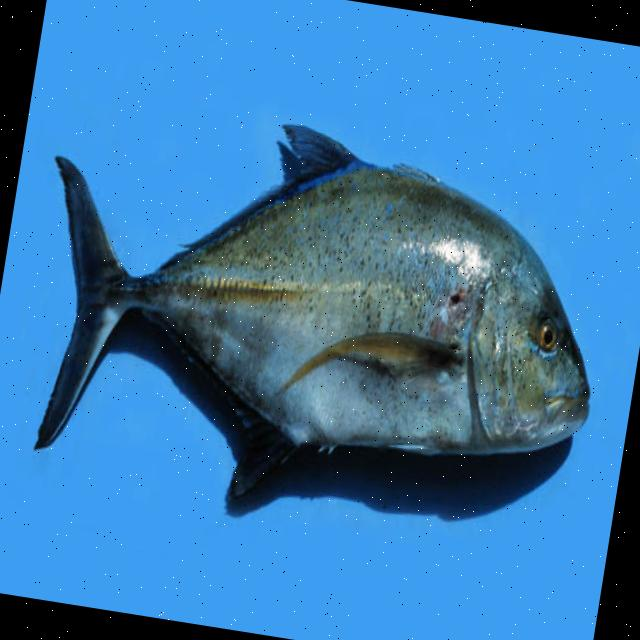ikan: (6, 85, 628, 558)
